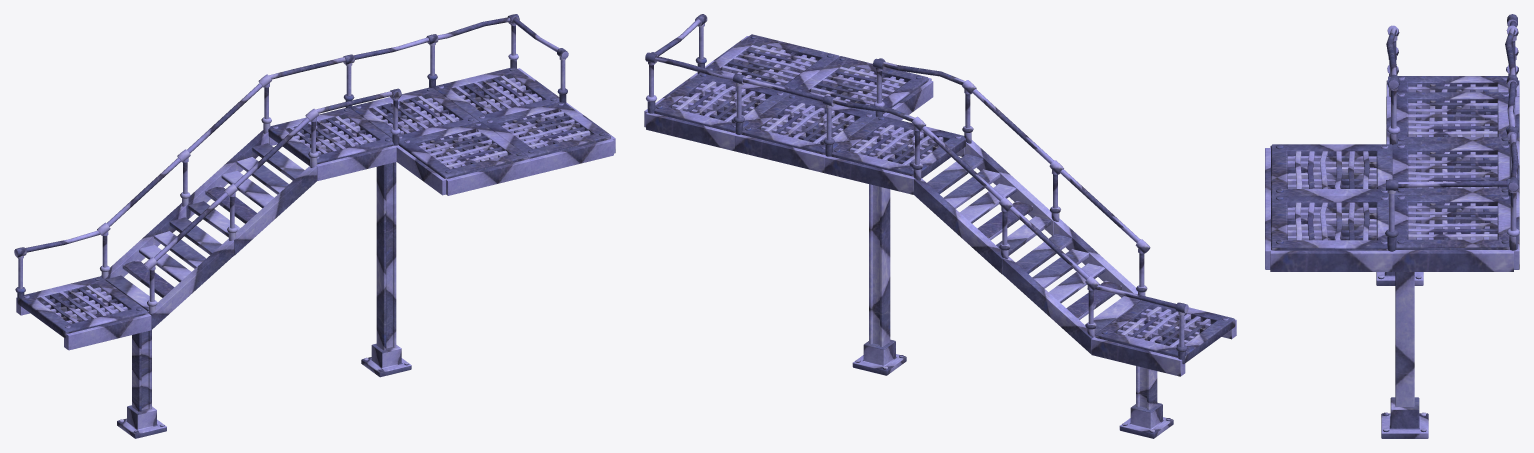
Rendered from catwalk_assembled.fbx.
3 views of the same model, side by side, from view 1: azimuth 30°, elevation 25°; view 2: azimuth 150°, elevation 25°; view 3: azimuth 270°, elevation 25° (orthographic). The views are drawn at different scales.
Visible parts, largest first — view 1: catwalk_stairs_1, catwalk_stairs_2, catwalk_floor_6, catwalk_floor_3, catwalk_floor_5, catwalk_floor_1, catwalk_floor_4, catwalk_beam_1, catwalk_floor_2, catwalk_beam_2, catwalk_floor_frame_11, catwalk_floor_frame_6 (+5 smaller); view 2: catwalk_stairs_1, catwalk_stairs_2, catwalk_floor_6, catwalk_floor_1, catwalk_floor_2, catwalk_floor_4, catwalk_floor_5, catwalk_floor_3, catwalk_beam_1, catwalk_floor_frame_10, catwalk_floor_frame_2, catwalk_floor_frame_3 (+9 smaller); view 3: catwalk_floor_5, catwalk_floor_4, catwalk_floor_3, catwalk_floor_1, catwalk_floor_2, catwalk_beam_1, catwalk_floor_frame_8, catwalk_floor_frame_9, catwalk_floor_6, catwalk_beam_base_195, catwalk_railing_v2_5, catwalk_pole_straight_5 (+10 smaller).
Boxes of the visible parts, x1,y1,x2,y2 form: catwalk_stairs_1: (186,130,317,255); catwalk_stairs_2: (100,203,234,329); catwalk_floor_6: (18,276,147,338); catwalk_floor_3: (398,121,527,179); catwalk_floor_5: (481,102,610,158); catwalk_floor_1: (268,108,393,165); catwalk_floor_4: (434,67,559,121); catwalk_beam_1: (376,162,396,350); catwalk_floor_2: (351,87,478,140); catwalk_beam_2: (132,330,151,411); catwalk_floor_frame_11: (64,313,151,350); catwalk_floor_frame_6: (446,159,530,195); catwalk_stairs_1: (913,140,1053,274); catwalk_stairs_2: (1002,218,1141,353); catwalk_floor_6: (1095,300,1235,364); catwalk_floor_1: (831,116,965,178); catwalk_floor_2: (741,93,876,154); catwalk_floor_4: (654,72,789,133); catwalk_floor_5: (705,34,839,93); catwalk_floor_3: (795,56,928,113); catwalk_beam_1: (869,127,890,346); catwalk_floor_frame_10: (1091,336,1185,376); catwalk_floor_frame_2: (824,156,914,194); catwalk_floor_frame_3: (735,134,825,172); catwalk_floor_5: (1271,195,1388,250); catwalk_floor_4: (1394,195,1510,249); catwalk_floor_3: (1271,144,1392,197); catwalk_floor_1: (1396,92,1509,143); catwalk_floor_2: (1392,143,1509,194); catwalk_beam_1: (1395,272,1414,406); catwalk_floor_frame_8: (1270,250,1392,271); catwalk_floor_frame_9: (1392,250,1513,271); catwalk_floor_6: (1397,76,1508,92); catwalk_beam_base_195: (1381,397,1428,438); catwalk_railing_v2_5: (1398,180,1507,187); catwalk_pole_straight_5: (1385,179,1398,251).
Bounding box in the file's own units: 2434 × 1295 × 837.
